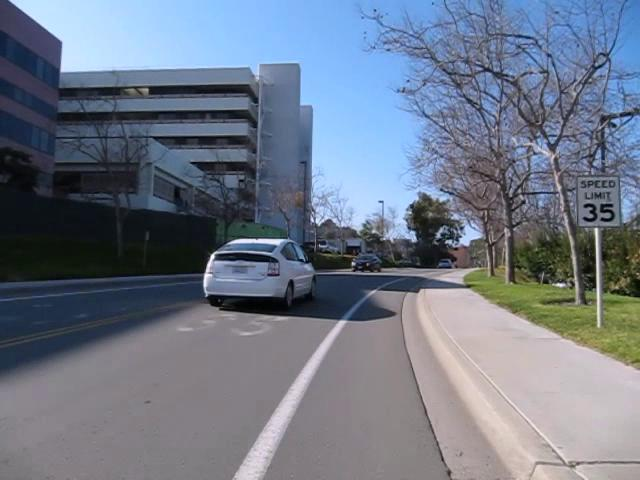speedLimit35: (575, 173, 622, 228)
